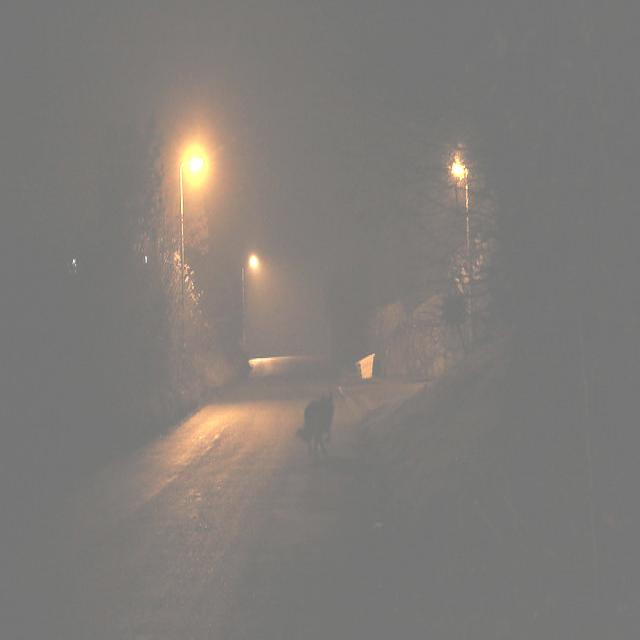Dog: (255, 361, 360, 485)
